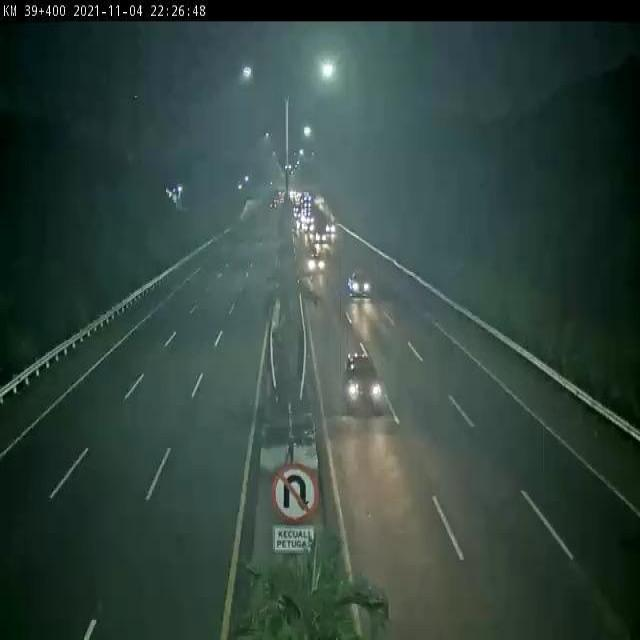car: (337, 351, 389, 418), (305, 248, 327, 280)
small truck: (343, 261, 376, 311)
